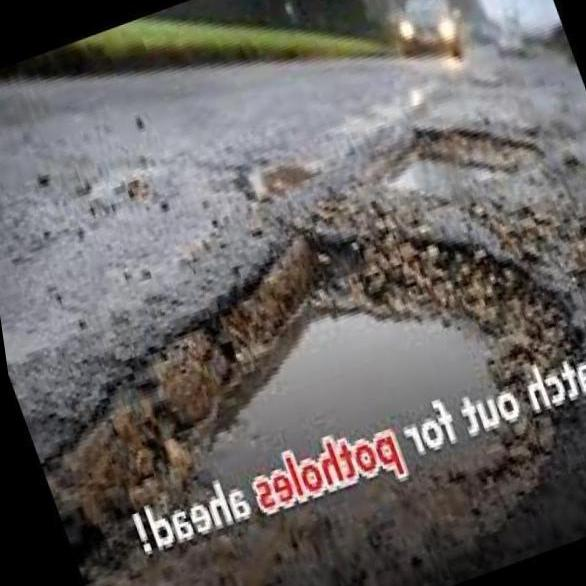pothole: (8, 203, 586, 586), (364, 112, 546, 216)
